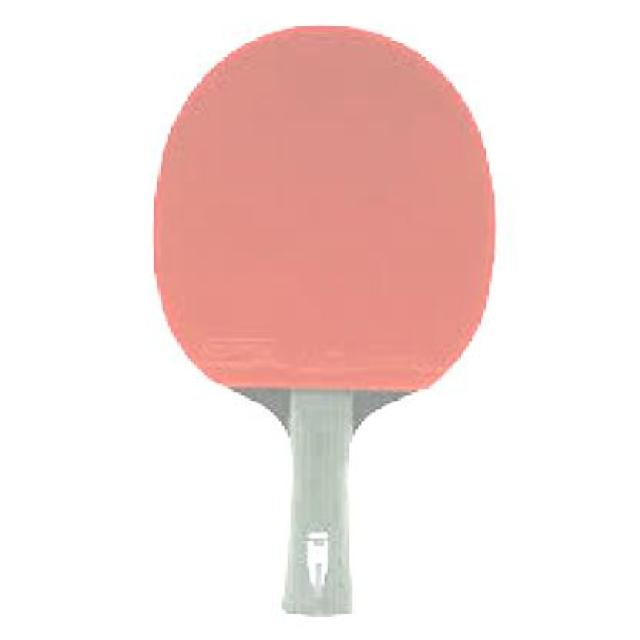table_tennis_racket: (151, 26, 498, 618)
